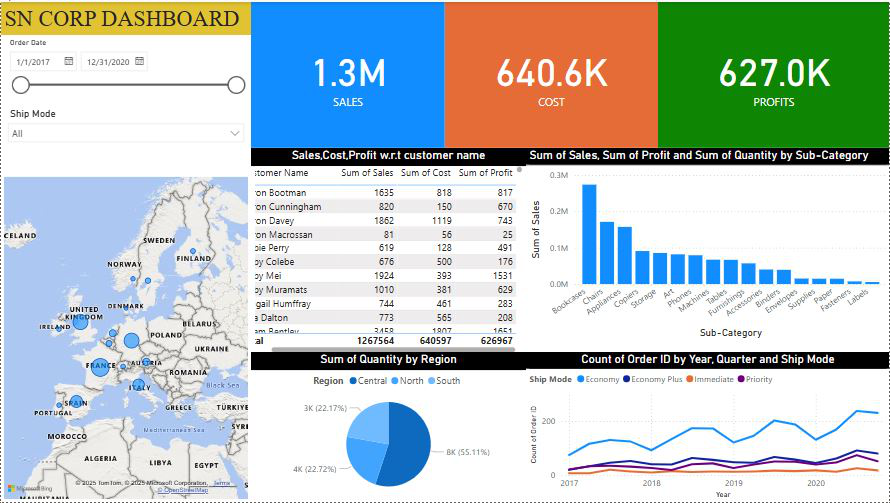

What the dashboard file says about the page in this screenshot:
{"tool":"powerbi","page":{"name":"Page 1","canvas":[1280,720],"ordinal":0},"visuals":[{"type":"card","fields":{"Values":["List of Orders.Sales"]},"box":[360,0,279.4,210.2],"z":0},{"type":"card","fields":{"Values":["List of Orders.Cost"]},"box":[639.4,0,306.7,210.2],"z":1000},{"type":"card","fields":{"Values":["List of Orders.Profit"]},"box":[946.1,0,334.1,210.2],"z":2000},{"type":"tableEx","title":"Sales,Cost,Profit w.r.t customer name","fields":{"Values":["List of Orders.Customer Name","List of Orders.Sales","List of Orders.Cost","List of Orders.Profit"]},"box":[360,210.2,396,299.5],"z":3000},{"type":"clusteredColumnChart","fields":{"Y":["List of Orders.Sales"],"Category":["List of Orders.Sub-Category"]},"box":[756,210.2,524.2,277.9],"z":4000},{"type":"lineChart","fields":{"Y":["List of Orders.Order ID"],"Category":["List of Orders.Order Date.Variation.Date Hierarchy.Year","List of Orders.Order Date.Variation.Date Hierarchy.Quarter"],"Series":["List of Orders.Ship Mode"]},"box":[756,504,524.2,216],"z":5000},{"type":"pieChart","fields":{"Y":["List of Orders.Quantity"],"Category":["List of Orders.Region"]},"box":[360,504,396,216],"z":6000},{"type":"map","fields":{"Size":["List of Orders.Sales"],"Category":["List of Orders.Country"]},"box":[0,200.2,360,519.8],"z":7000},{"type":"textbox","box":[0,0,360,47.5],"z":8000},{"type":"slicer","fields":{"Values":["List of Orders.Ship Mode"]},"box":[0,146.9,360,105.1],"z":9000},{"type":"slicer","fields":{"Values":["List of Orders.Order Date"]},"box":[0,47.5,360,99.4],"z":10000}]}

Visuals, with their boxes in screenshot pixels (x1, y1, x2, y2), scaled from the page's 1280x720 canvas onto the 890x503 screenshot:
card - List of Orders.Sales: 250,0,445,147
card - List of Orders.Cost: 445,0,658,147
card - List of Orders.Profit: 658,0,889,147
"Sales,Cost,Profit w.r.t customer name" tableEx: 250,147,526,356
clusteredColumnChart - List of Orders.Sales x List of Orders.Sub-Category: 526,147,889,341
lineChart - List of Orders.Order ID x List of Orders.Order Date.Variation.Date Hierarchy.Year: 526,352,889,502
pieChart - List of Orders.Quantity x List of Orders.Region: 250,352,526,502
map - List of Orders.Sales x List of Orders.Country: 0,140,250,502
textbox: 0,0,250,33
slicer - List of Orders.Ship Mode: 0,103,250,176
slicer - List of Orders.Order Date: 0,33,250,103
